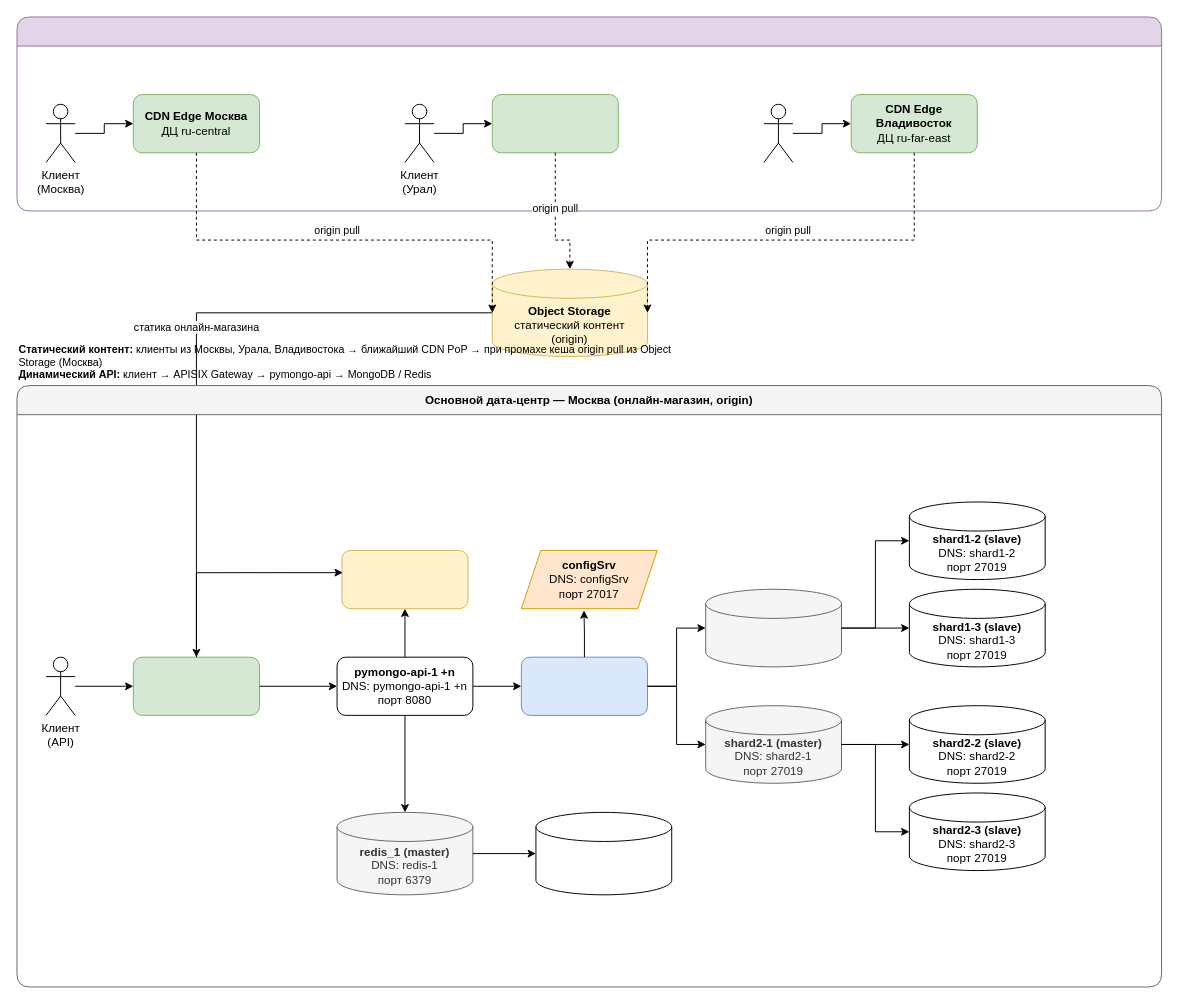
The diagram is 1179 pixels wide and 1004 high, and some of its shapes have lost their labels. The box of each missing label's shape, as (x1, y1, x2, y2) in pixels:
APISIX Gateway DNS: apisix порт 9080: (132, 656, 259, 715)
CDN (региональные PoP в РФ): (16, 16, 1162, 211)
CDN Edge Урал ДЦ ru-ural: (491, 94, 618, 153)
Consul DNS: consul порт 8500: (341, 550, 468, 609)
mongos_router DNS: mongos-router порт 27020: (520, 656, 647, 715)
redis_2 (replica) DNS: redis-2 порт 6379: (535, 811, 672, 895)
shard1-1 (master) DNS: shard1-1 порт 27019: (705, 588, 841, 667)
Клиент (Владивосток): (763, 103, 793, 162)
